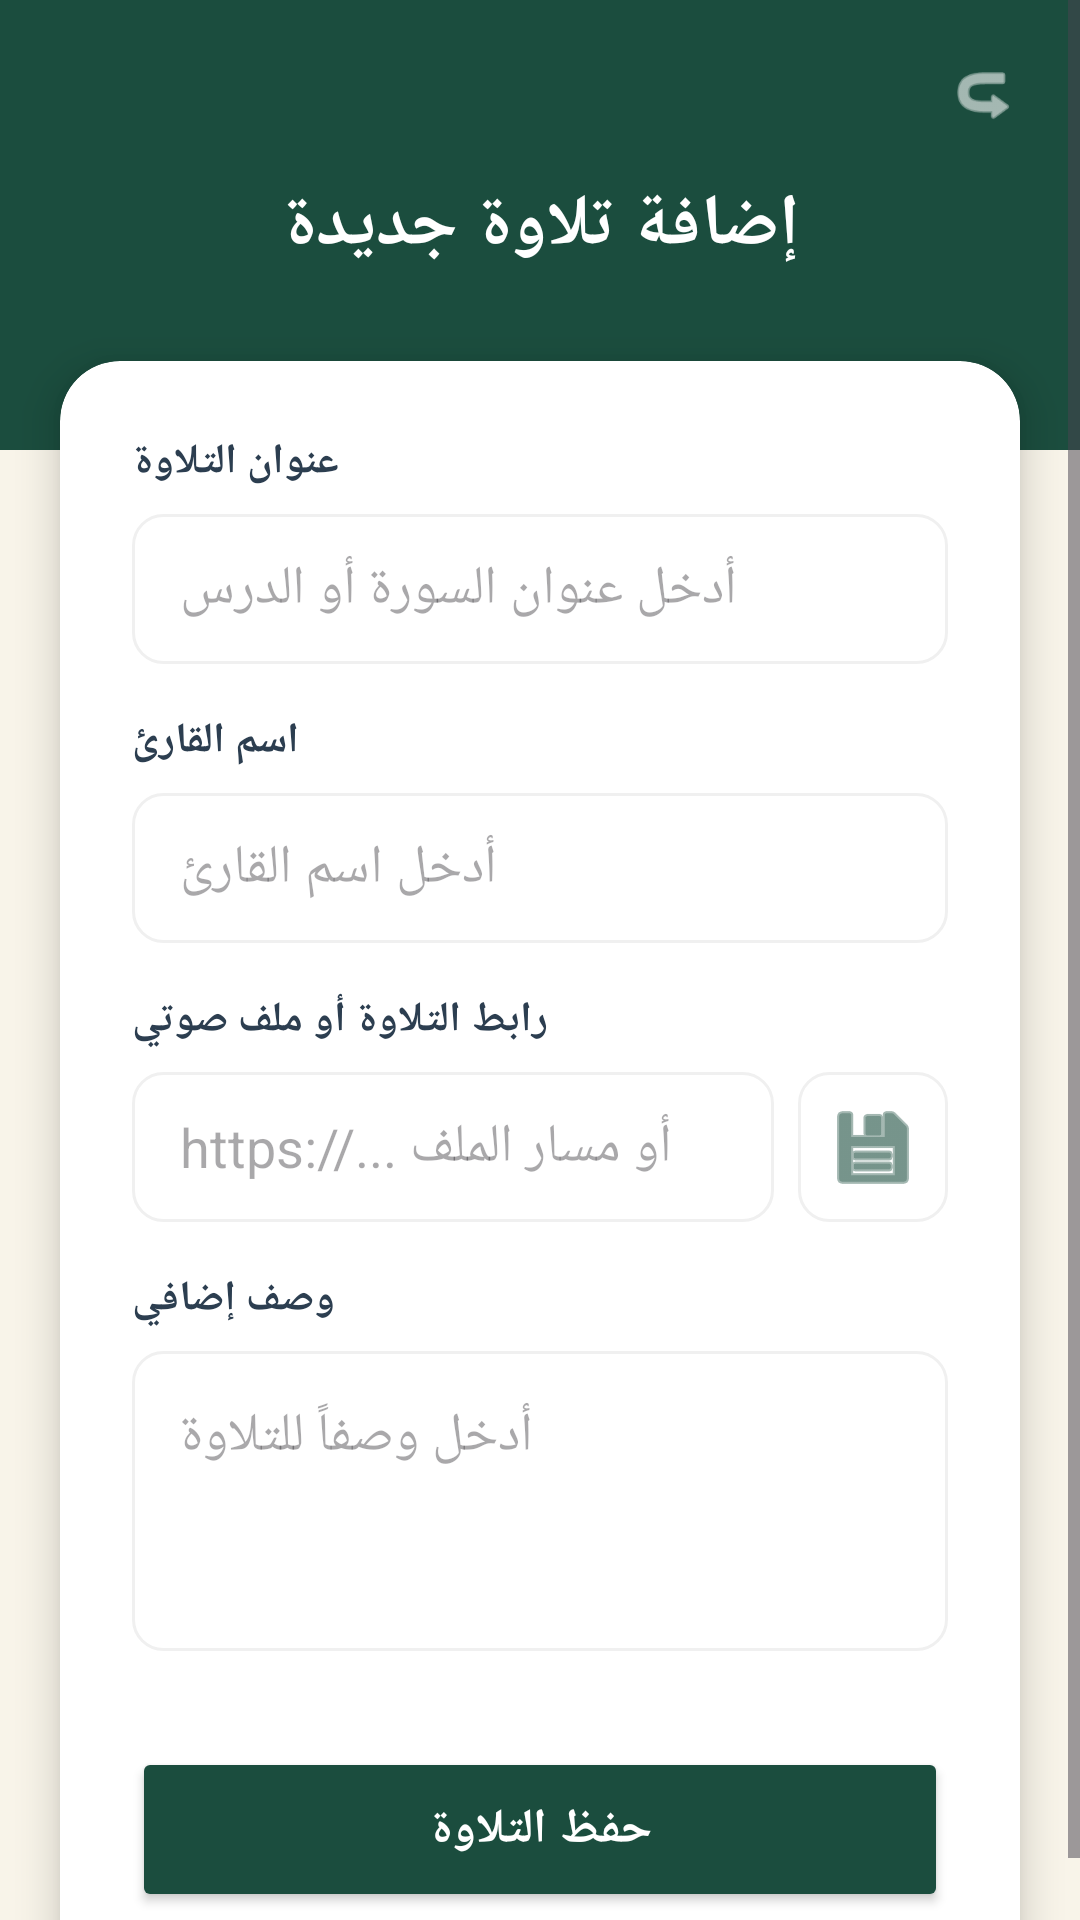

Screen size 1080px x 1920px. Icon name, then its box in pixels as [left=x1, top=y1, right=x2, bottom=y2]:
save: [left=837, top=1111, right=909, bottom=1184]
